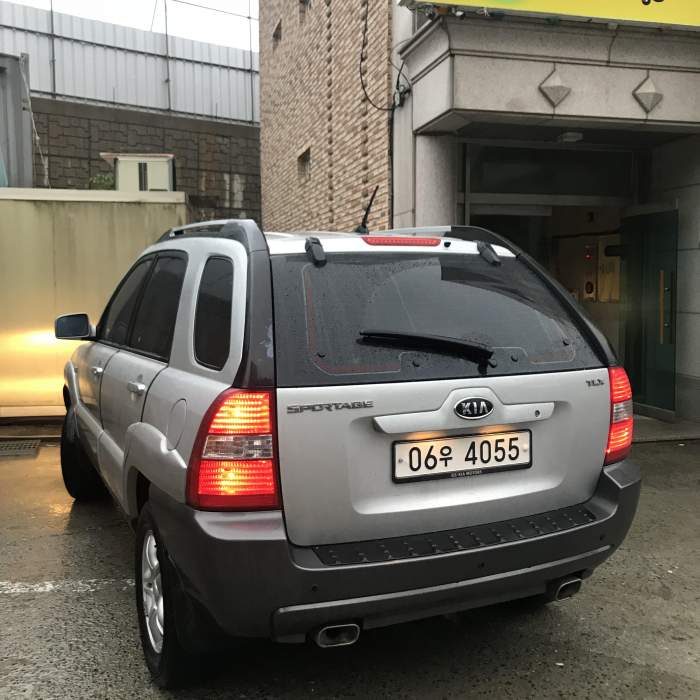plate: (393, 433, 529, 487)
